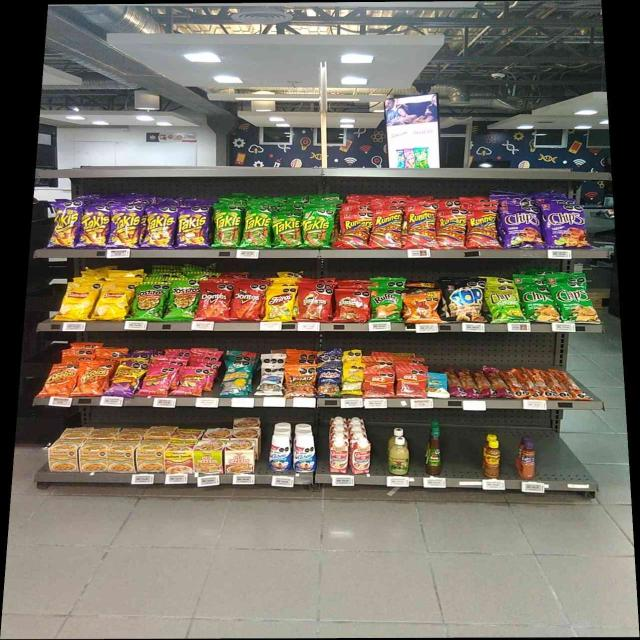bitzAlmendras: (430, 373, 448, 398)
bitzEnchilado90: (397, 363, 428, 398), (365, 364, 396, 396)
bitzEnchilado95: (506, 369, 582, 399)
bitzHabanero: (452, 368, 502, 397)
bokadosCacahuates: (318, 364, 342, 397)
botaneraChilito: (484, 442, 502, 478)
cheetosFlaminHot: (114, 359, 138, 397)
cheetosOriginal: (76, 359, 104, 396), (44, 366, 73, 396)
chipsFuego: (500, 207, 543, 250), (544, 204, 586, 247)
chipsJalapeno: (554, 277, 594, 321), (522, 276, 552, 321)
chipsPapatinas: (484, 280, 518, 321)
churrumais: (142, 366, 172, 396), (175, 367, 205, 396)
delPrimoSalsa: (388, 439, 409, 474)
doritosNacho: (198, 281, 232, 321), (234, 278, 262, 320)
fritosLimon: (264, 286, 294, 322)
leoCacahuates: (260, 366, 282, 396)
leoMix: (284, 365, 316, 397)
maruchanPollo: (134, 440, 162, 472), (79, 441, 105, 473), (107, 440, 132, 471), (50, 442, 76, 471)
maruchanRes: (164, 442, 192, 473)
nestleCarnation: (329, 442, 350, 474), (351, 442, 370, 474)
nestleLechera: (292, 435, 315, 472), (270, 436, 291, 473)
nissinCamaron: (194, 441, 223, 474)
nissinRes: (227, 438, 254, 472)
popKarameladas: (443, 280, 481, 322)
rancheritos: (334, 288, 369, 322), (296, 289, 332, 321)
rufflesQueso: (402, 289, 440, 322), (371, 286, 400, 322)
runners: (374, 203, 406, 249), (408, 204, 436, 249), (339, 211, 372, 247), (468, 210, 498, 248), (437, 210, 466, 248)
sabritasOriginal: (95, 280, 130, 322), (62, 282, 93, 320)
salsaBufalo: (428, 429, 441, 472)
semillasCalabaza: (343, 364, 362, 395)
semillasGirasol: (223, 364, 251, 397)
tajinDulce: (516, 441, 538, 477)
takisFuego: (177, 206, 212, 248), (142, 207, 176, 248), (110, 204, 140, 249), (80, 204, 108, 248), (53, 203, 78, 247)
takisOriginal: (243, 206, 270, 250), (303, 208, 332, 248), (214, 204, 240, 246), (272, 214, 301, 248)
tostitos: (166, 278, 194, 321), (135, 282, 164, 320)
